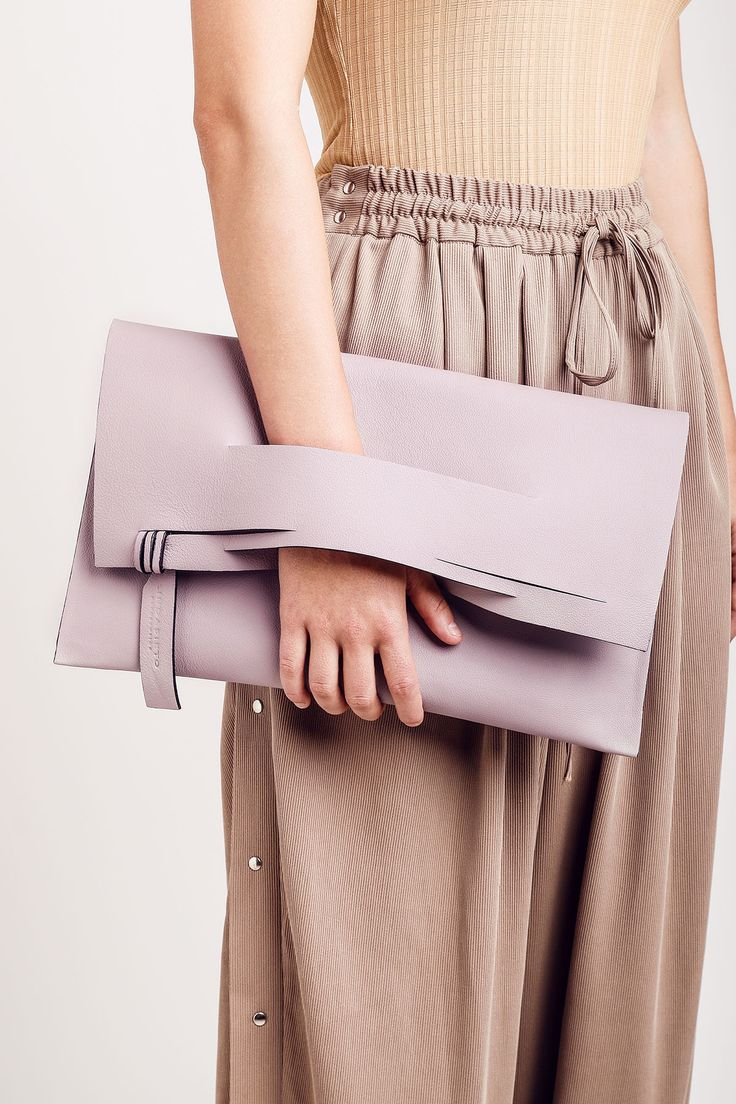cuero: (53, 318, 694, 758)
